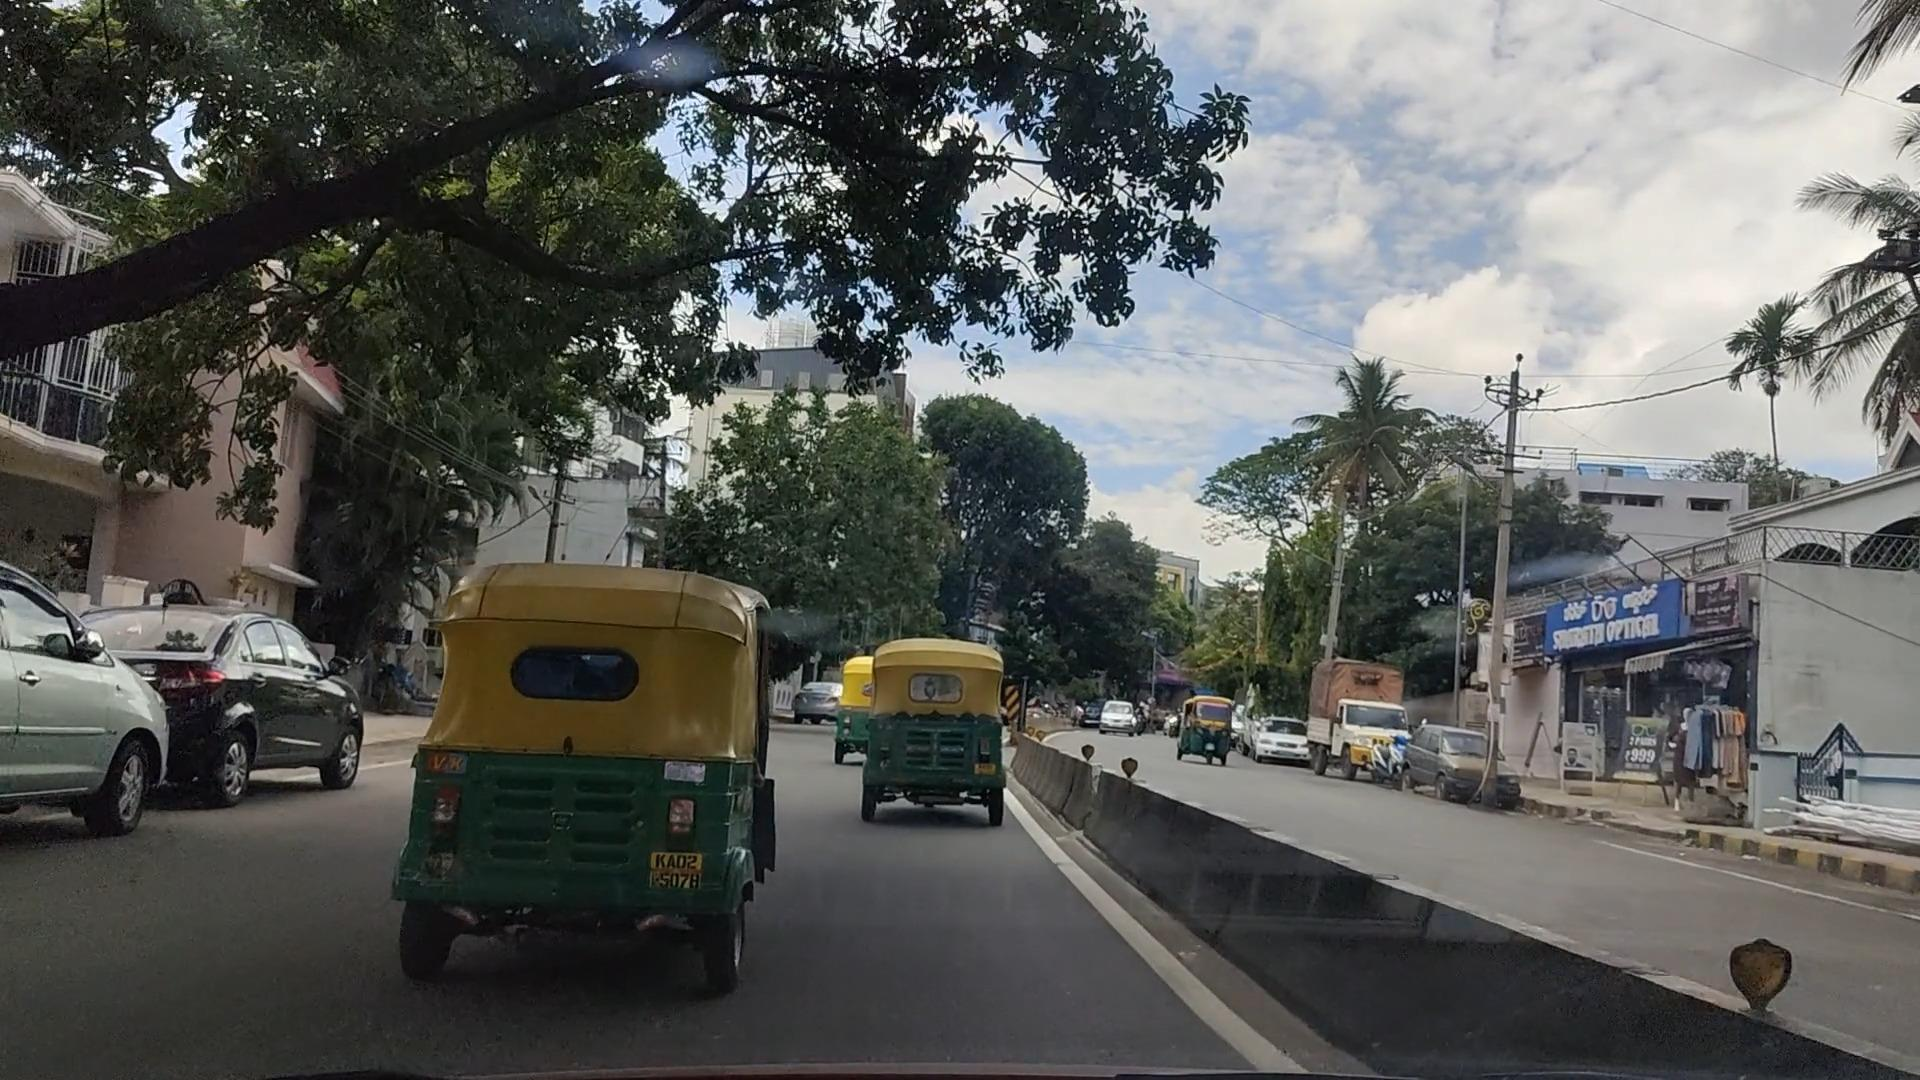LMV: (438, 530, 786, 990), (105, 585, 364, 804), (0, 550, 182, 856), (848, 605, 1025, 855)
